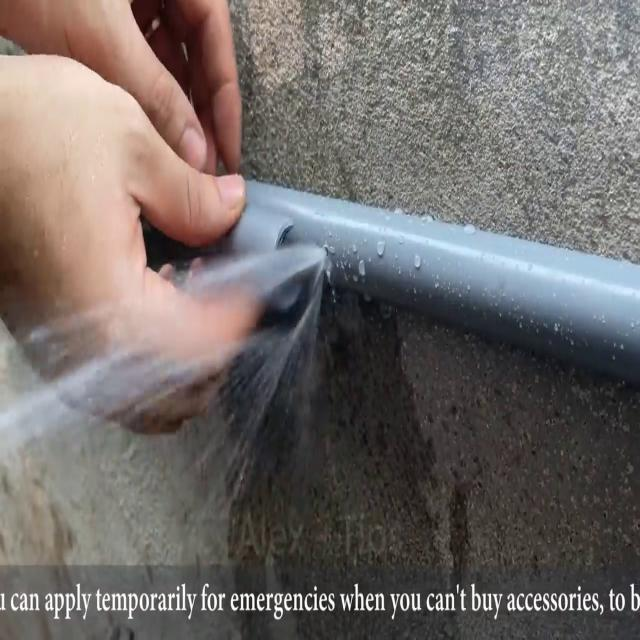leak: (0, 244, 328, 467)
